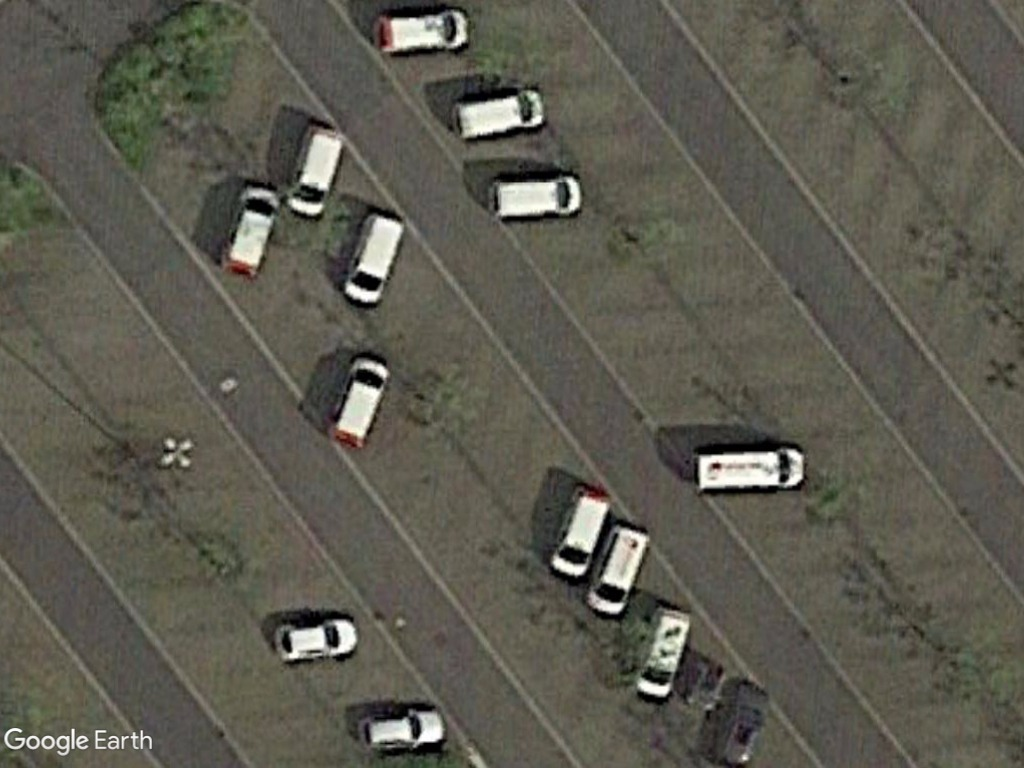car: (267, 617, 364, 669), (354, 706, 449, 753)
van: (542, 488, 614, 587), (624, 604, 694, 705), (337, 212, 408, 309), (581, 525, 651, 621), (327, 353, 392, 455), (218, 178, 283, 279), (684, 447, 809, 499), (282, 124, 346, 224), (477, 172, 589, 226), (365, 7, 472, 60), (446, 87, 547, 142)
